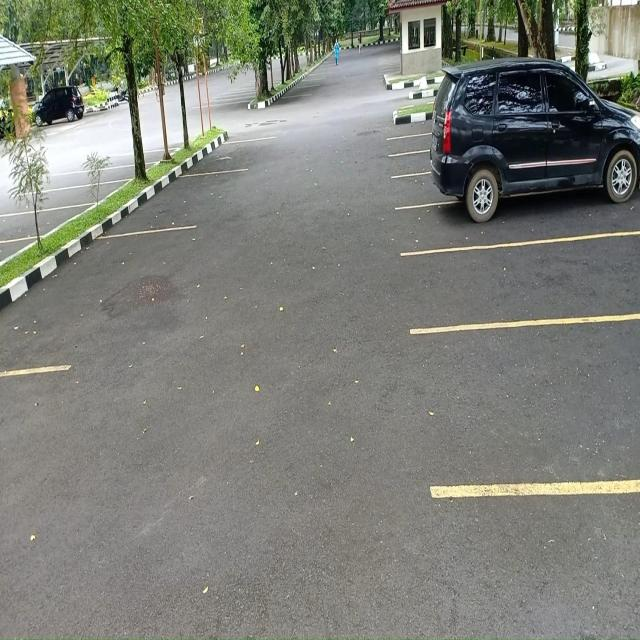empty: (438, 319, 640, 493), (37, 229, 188, 373), (419, 238, 640, 324), (134, 171, 239, 234), (0, 207, 62, 239), (210, 138, 265, 174), (39, 182, 111, 208), (67, 167, 134, 185)
occupied: (423, 138, 640, 250)
